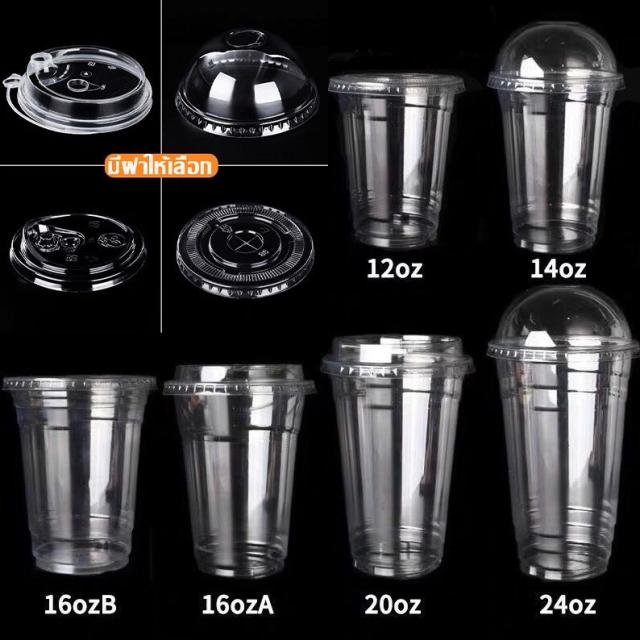plastik: (488, 286, 639, 580), (322, 335, 473, 578), (164, 365, 314, 577), (488, 22, 624, 253), (3, 376, 155, 575), (329, 73, 464, 248), (176, 29, 319, 138), (3, 46, 152, 134), (177, 204, 314, 298), (11, 214, 147, 291)
